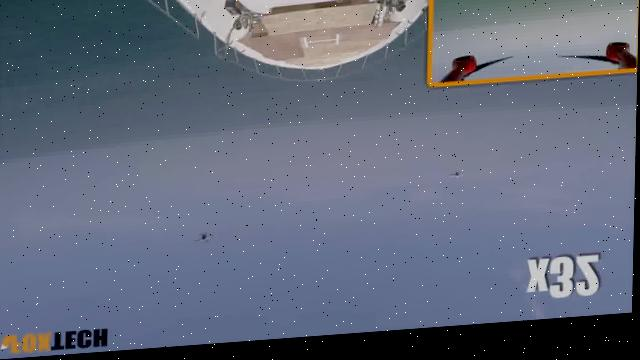drone: (190, 232, 219, 254), (443, 175, 470, 195)
